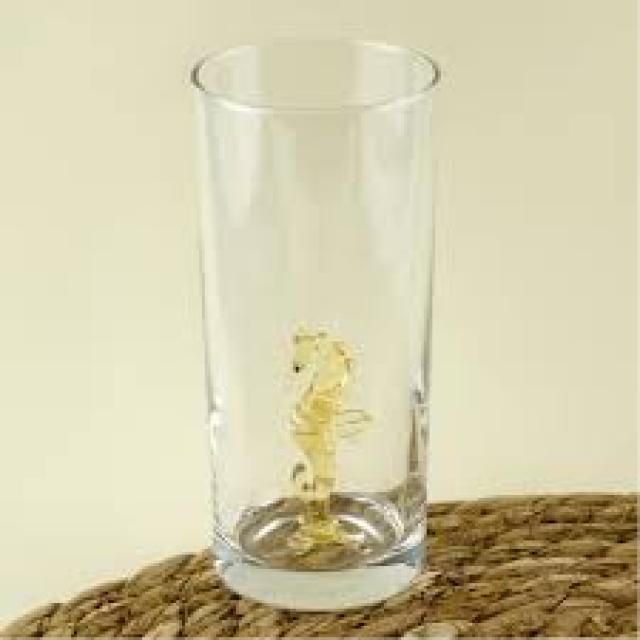Dry: (188, 33, 440, 610)
